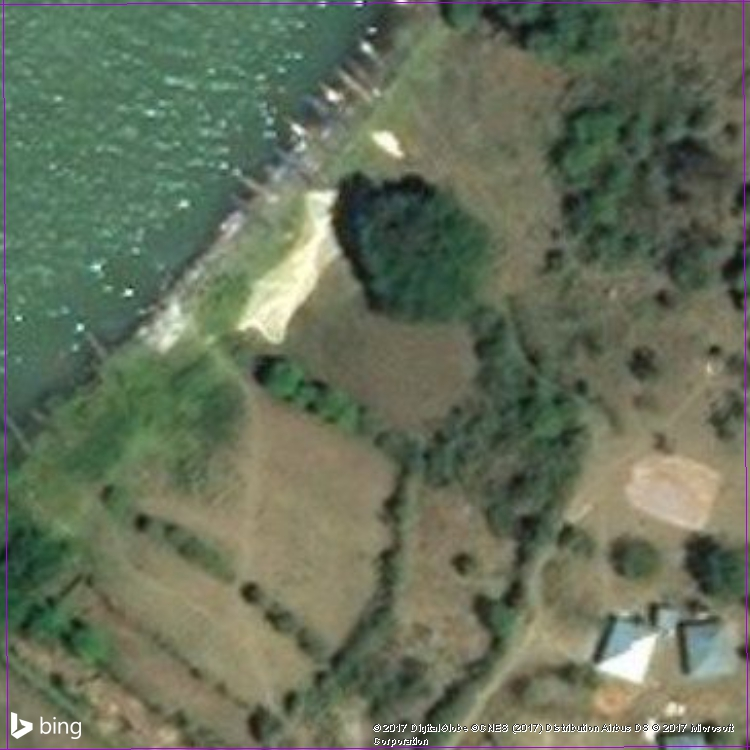boat: (224, 165, 280, 207), (267, 139, 321, 181), (329, 64, 378, 108), (340, 51, 385, 97), (214, 191, 273, 225), (76, 322, 117, 369), (309, 75, 356, 115), (2, 407, 36, 458), (293, 91, 343, 125), (274, 110, 314, 144)
